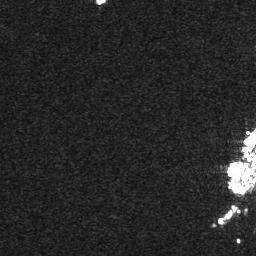ship: (217, 200, 239, 225)
